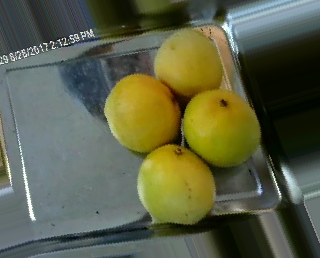Mango: (137, 144, 218, 225), (184, 88, 261, 166), (106, 75, 179, 152), (151, 29, 221, 97)
